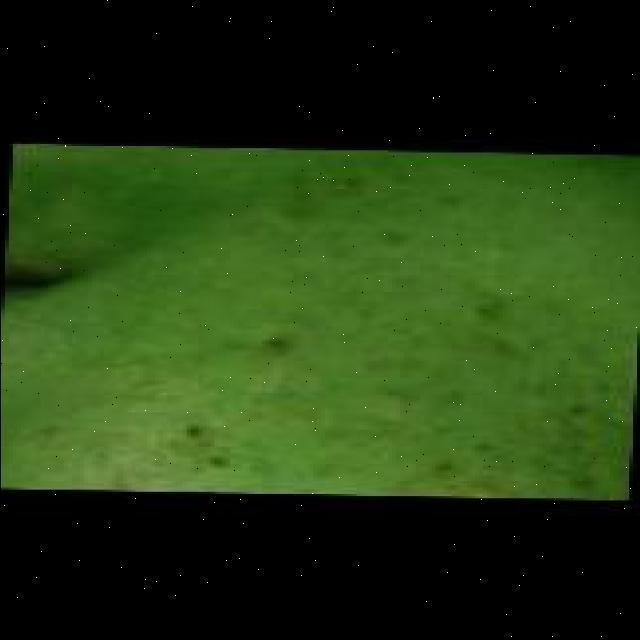Acne: (174, 156, 591, 492)
